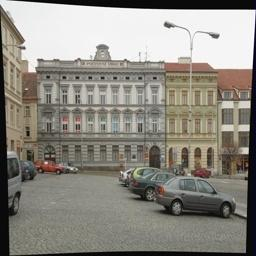building: (36, 57, 167, 178), (167, 55, 252, 175)
